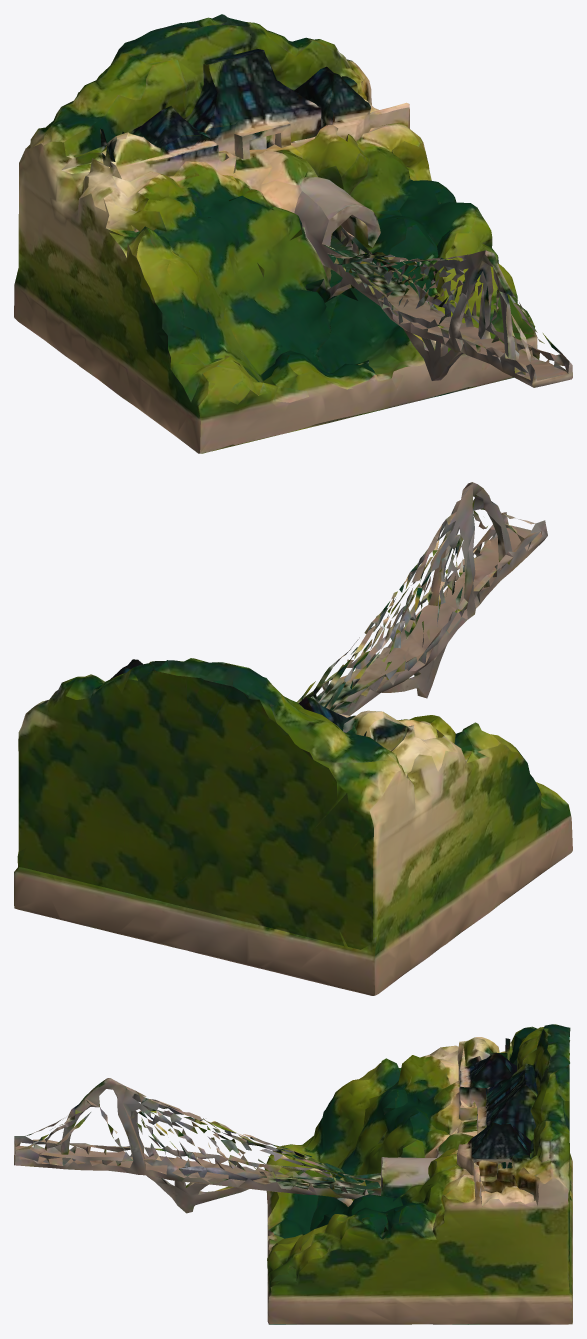
File: miho-museum.glb
The picture shows the model from 3 angles, top to bottom: view 1: azimuth 30°, elevation 25°; view 2: azimuth 150°, elevation 25°; view 3: azimuth 270°, elevation 25°; orthographic projection. The views are drawn at different scales.
Visible parts, largest first — view 1: logan-textured.obj; view 2: logan-textured.obj; view 3: logan-textured.obj.
Boxes of the visible parts, x1,y1,x2,y2 form: logan-textured.obj: (14,14,572,453); logan-textured.obj: (14,482,572,995); logan-textured.obj: (14,1024,572,1324).
Bounding box in the file's own units: 0.5749 × 0.4297 × 1.
1 material, 1 textured.
